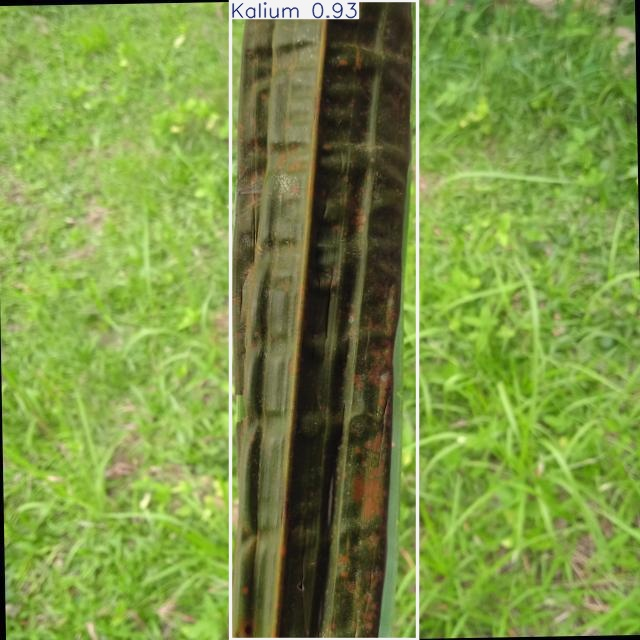Kalium: (231, 1, 418, 639)
